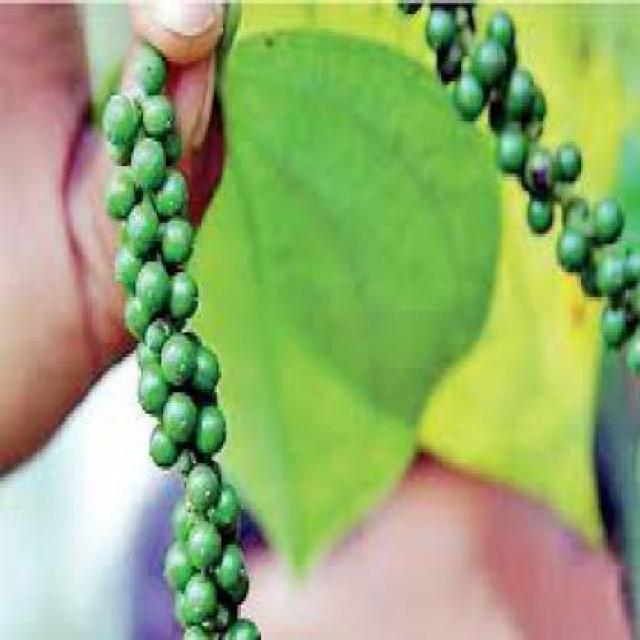UNRIPE: (74, 45, 260, 633), (392, 0, 638, 351)
